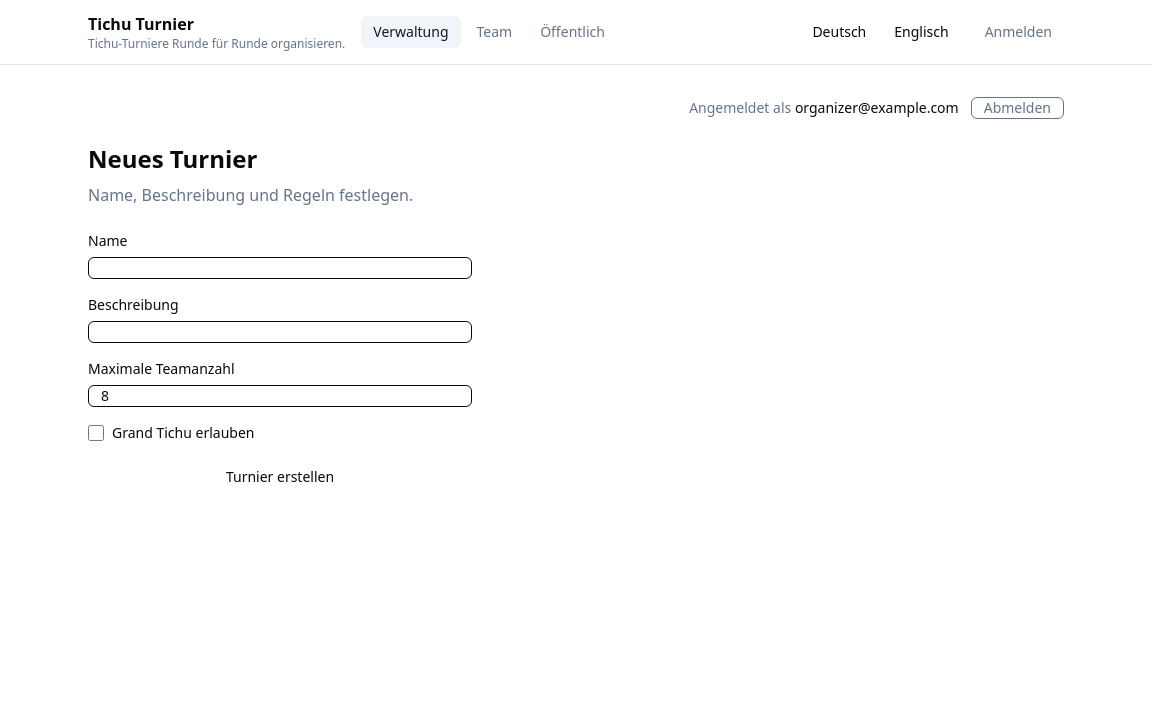
it: tournament create/edit forms › rejects a max team count below 2 on the client
Type "Jahresturnier" into the field labelled "Name" at (280, 268), box [88,257,472,279]
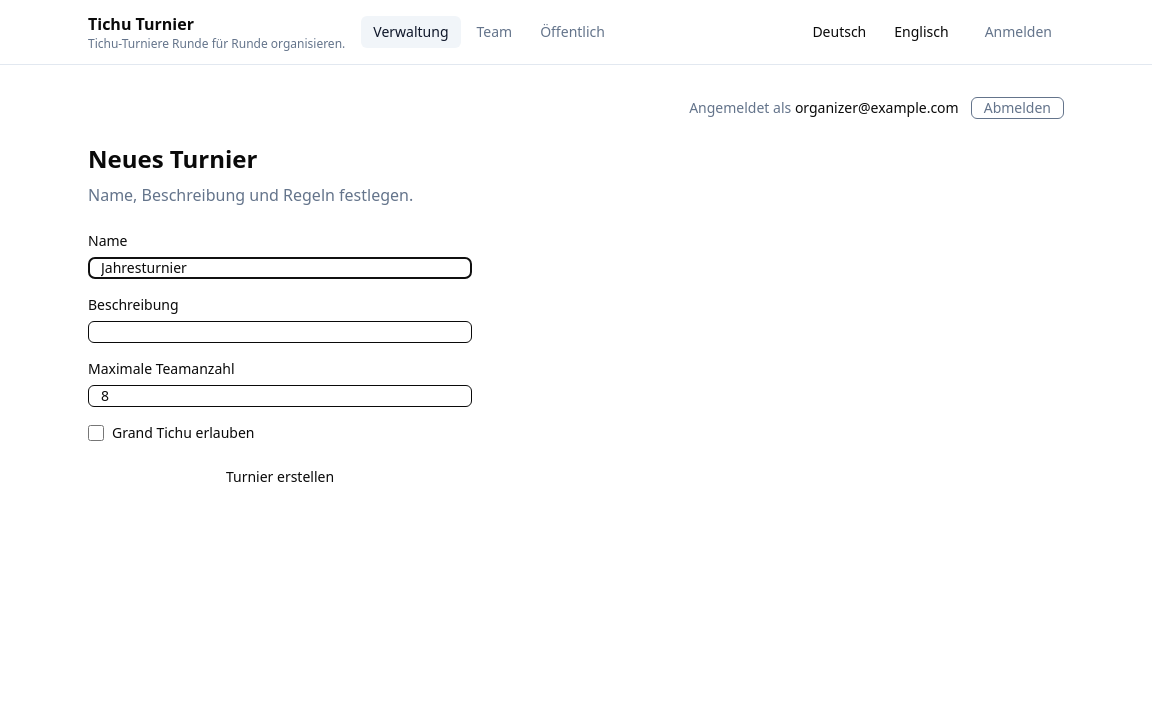
Replace the text in the number field labelled "Maximale Teamanzahl" with "1" at (280, 396), box [88,385,472,407]
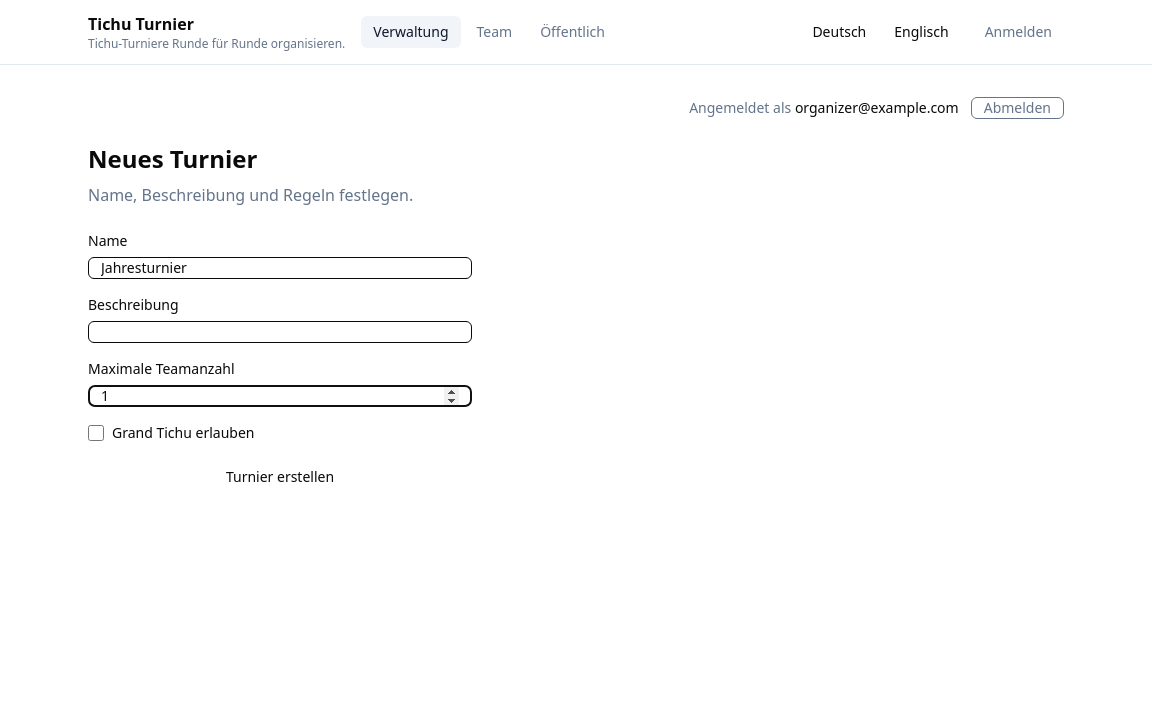
Click the button "Turnier erstellen" at (280, 477), box [88,459,472,495]
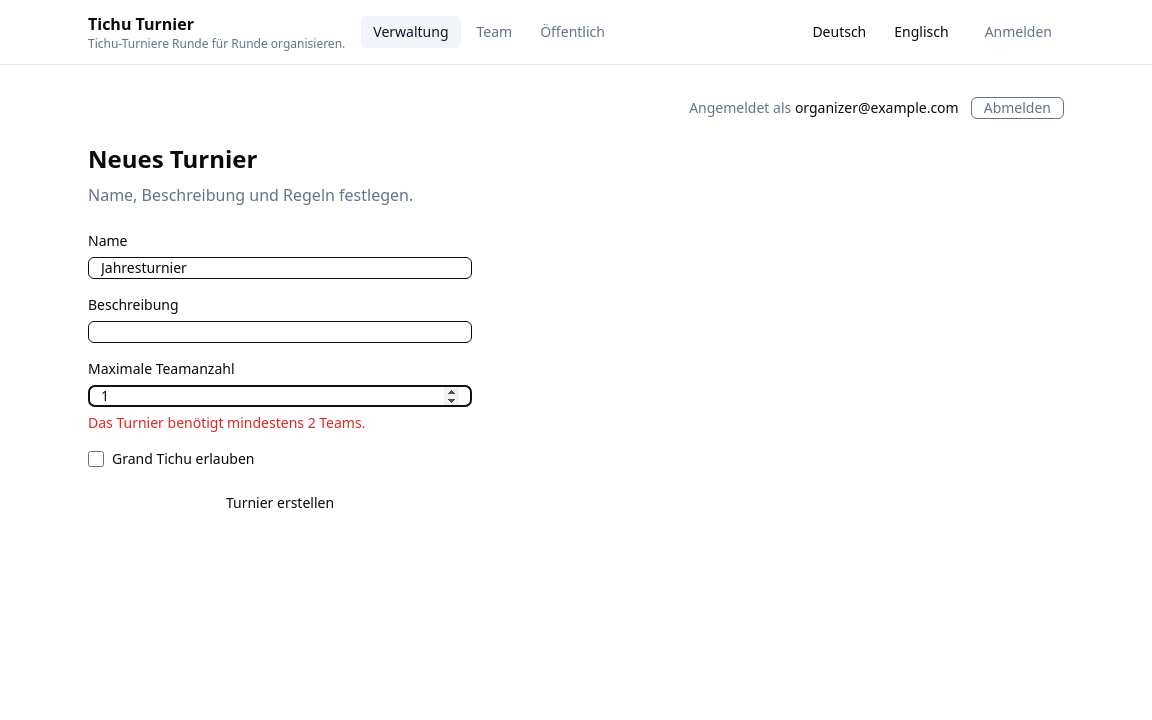
Now the text "Das Turnier benötigt mindestens 2 Teams." is shown, box [88,413,365,432]
